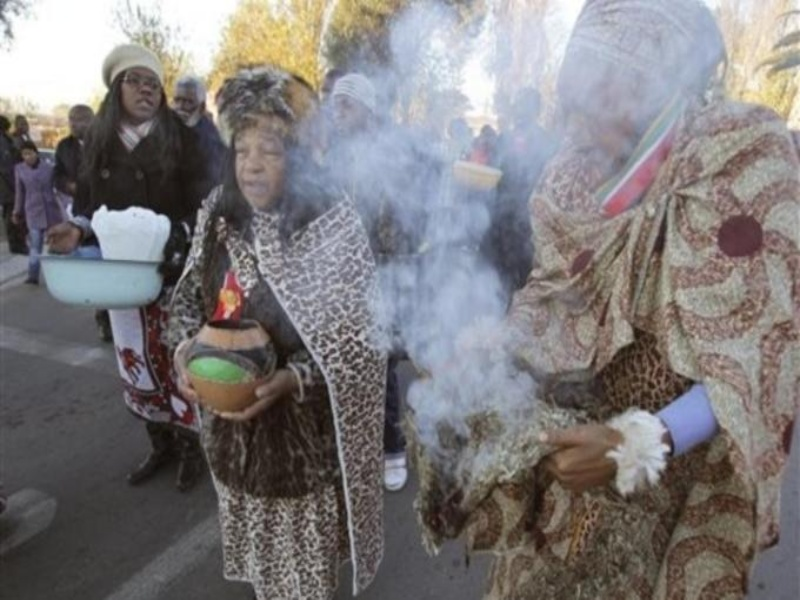smoke: (347, 69, 529, 418)
